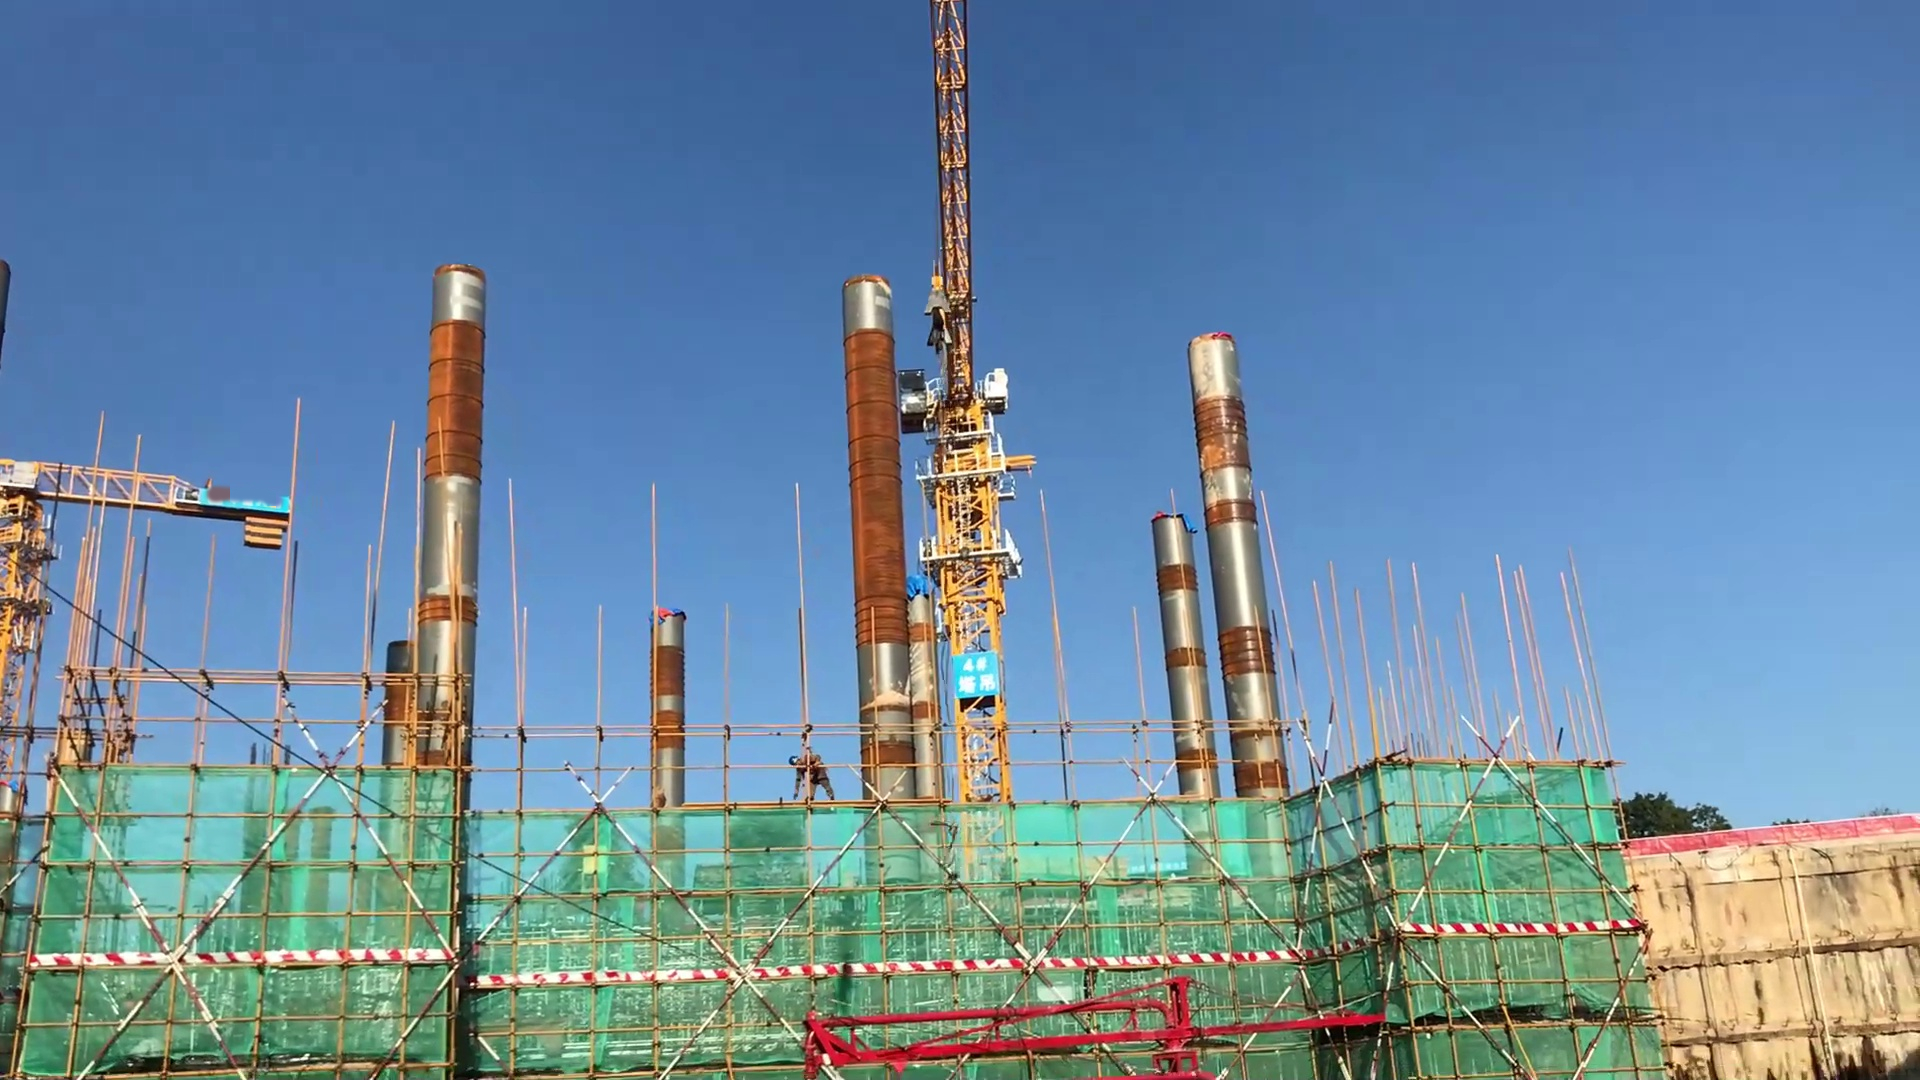helmet: (787, 756, 797, 766)
hook: (919, 258, 962, 355)
person: (782, 750, 838, 805)
vest: (801, 758, 829, 787)
